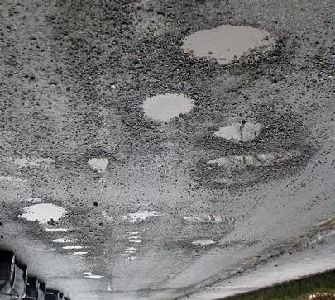pothole: (175, 23, 284, 72), (196, 150, 308, 188), (139, 89, 201, 128), (209, 118, 275, 149), (15, 201, 69, 226), (85, 156, 112, 174), (189, 238, 218, 248), (81, 270, 104, 281), (59, 245, 84, 253), (51, 239, 76, 245)
